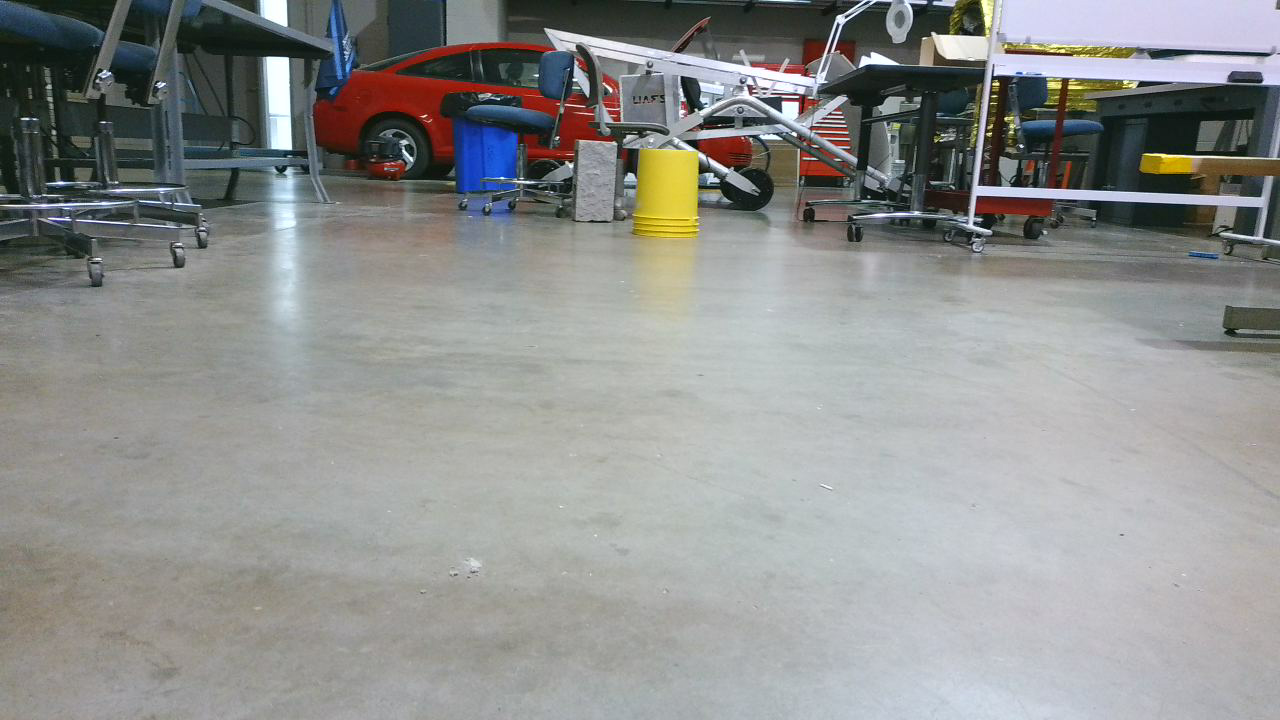yellow_bucket: (638, 154, 710, 244)
